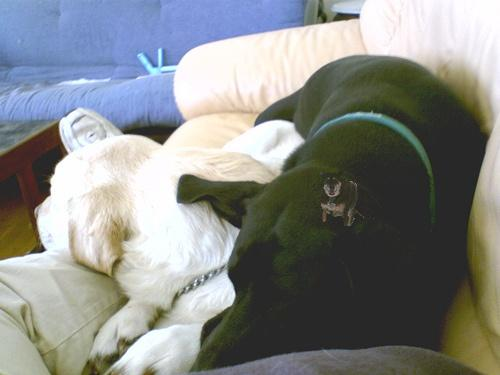tampered: (320, 171, 374, 226)
